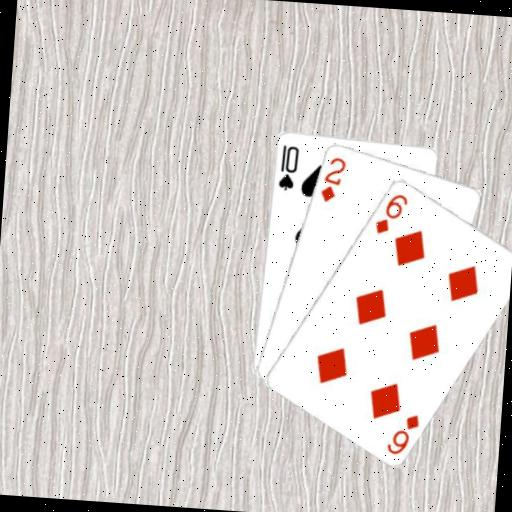10S: (275, 141, 301, 193)
2D: (317, 153, 348, 205)
6D: (372, 189, 411, 237), (383, 410, 421, 458)
